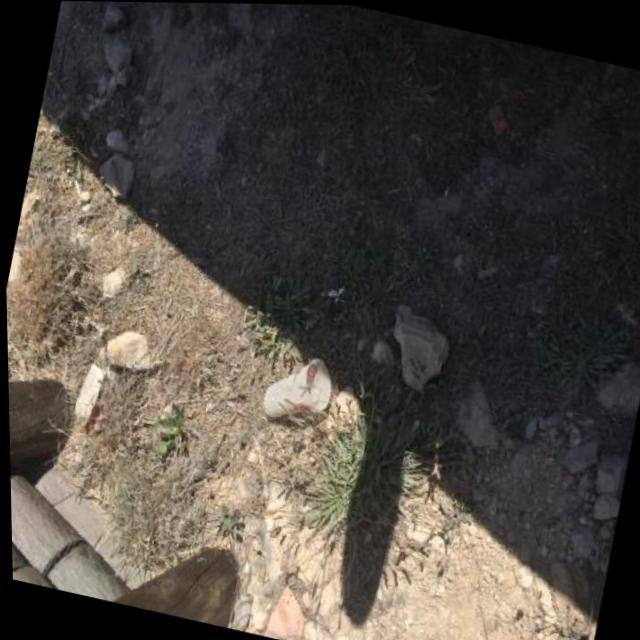plastic: (261, 348, 339, 428)
